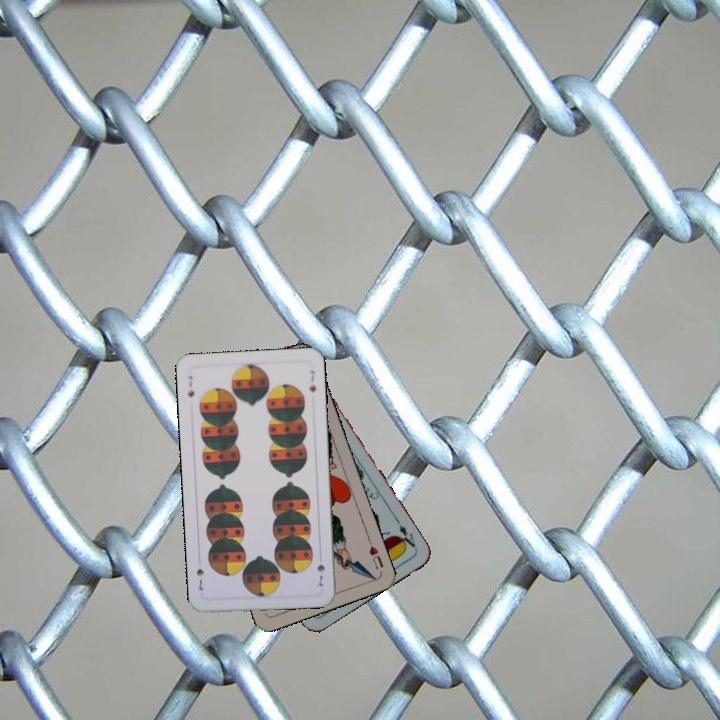EA: (392, 515, 419, 552)
HU: (364, 535, 386, 572)
S7: (313, 560, 327, 589), (184, 372, 197, 400)
